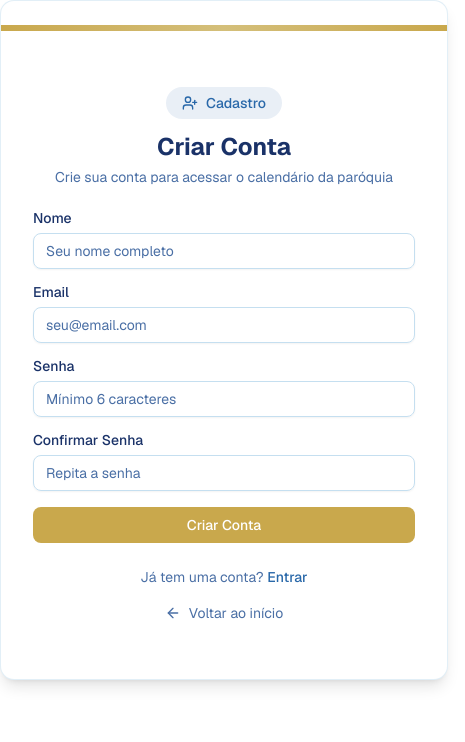
Test: RegisterForm › shows error when password too short
Type "Test" into the field labelled "Nome" at (224, 251), box [33,233,415,269]
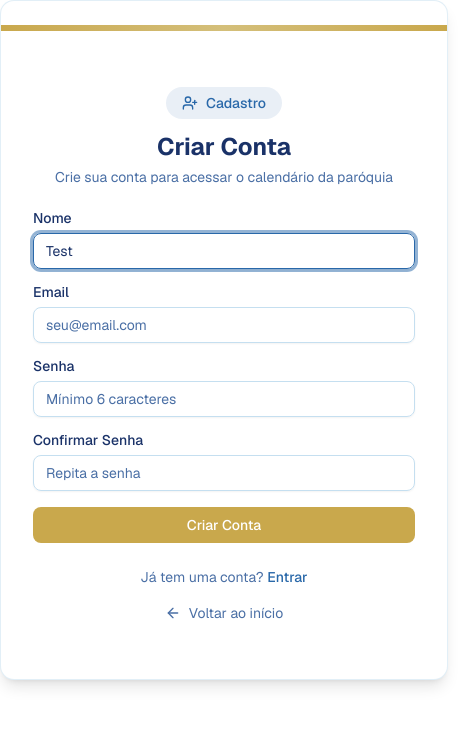
Type "test@test.com" into the field labelled "Email" at (224, 325), box [33,307,415,343]
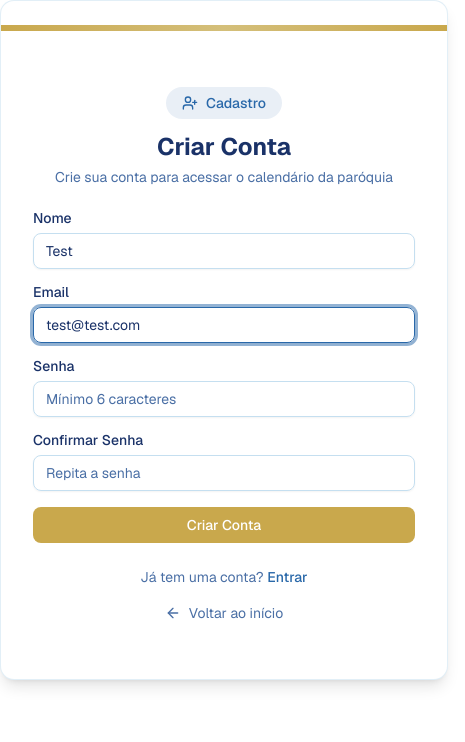
Type "12345" into the password field labelled "Senha" at (224, 399), box [33,381,415,417]
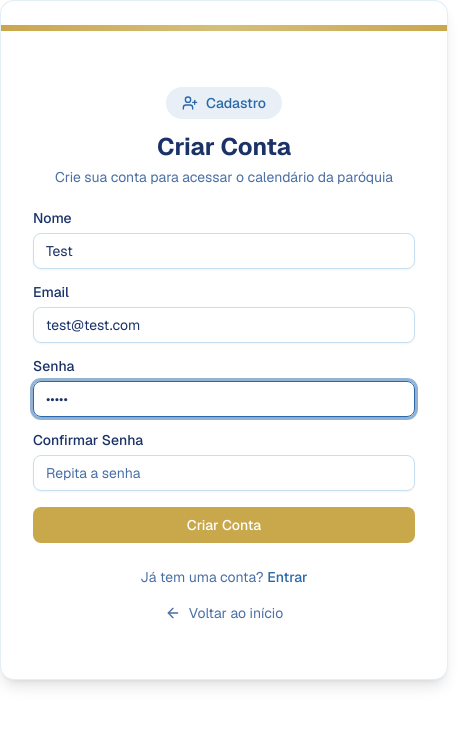
Type "12345" into the password field labelled "Confirmar Senha" at (224, 473), box [33,455,415,491]
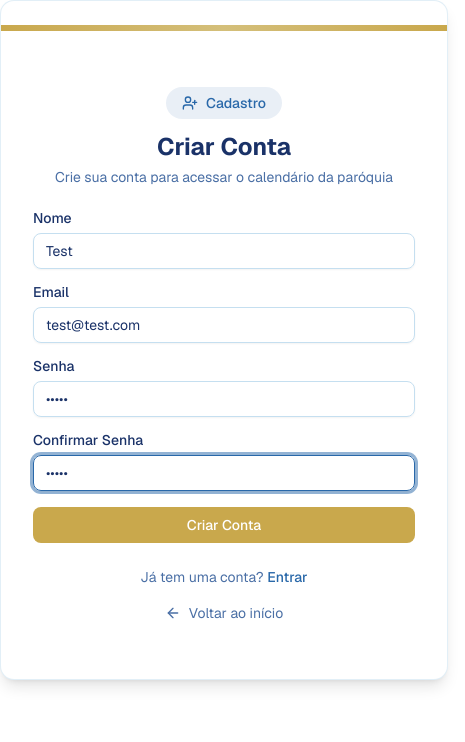
Click the button "Criar Conta" at (224, 525), box [33,507,415,543]
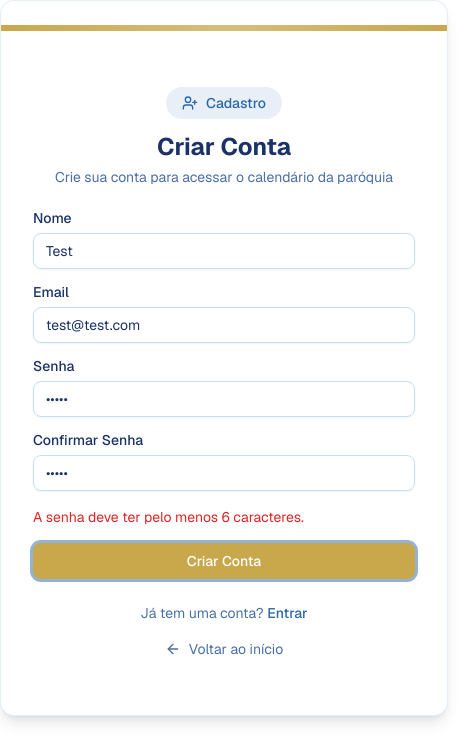
Check: the text "A senha deve ter pelo menos 6 caracteres." is shown, box [33,508,304,526]
